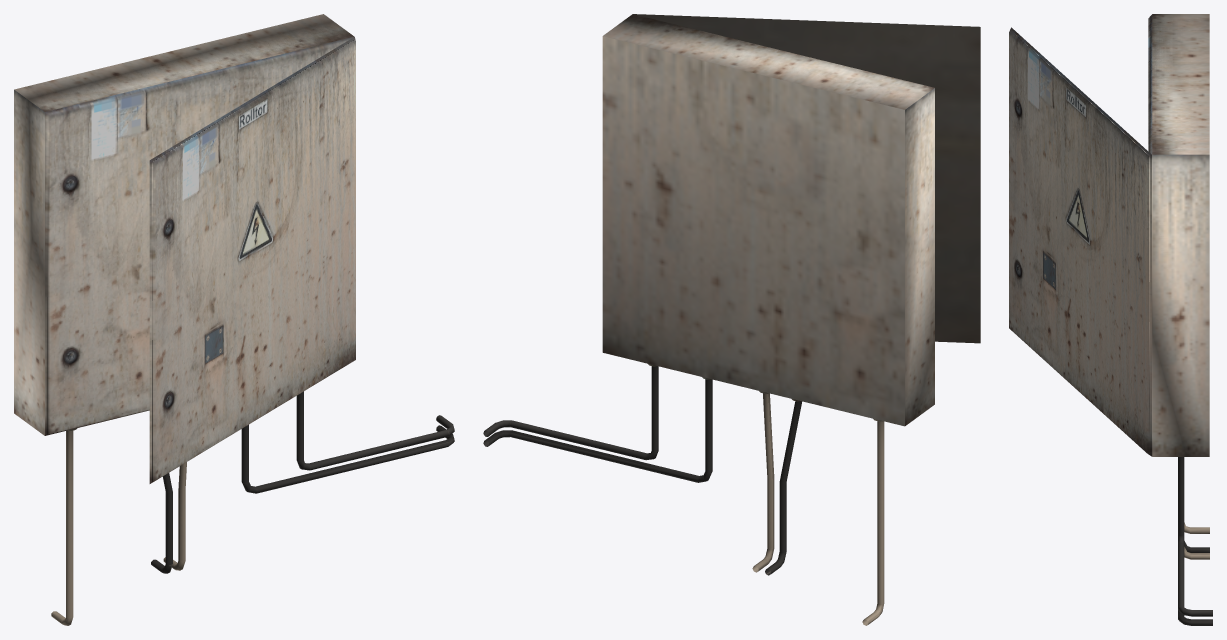
Rendered from fuse_box_0003.fbx.
3 views of the same model, side by side, from view 1: azimuth 30°, elevation 25°; view 2: azimuth 150°, elevation 25°; view 3: azimuth 270°, elevation 25° (orthographic). The views are drawn at different scales.
Parts seen in each view (by area): view 1: fuse_box_0003a, fuse_box_0003b, wires_03, wires_02, wires_01; view 2: fuse_box_0003a, fuse_box_0003b, wires_03, wires_02, wires_01; view 3: fuse_box_0003a, fuse_box_0003b, wires_03, wires_02.
Boxes of the visible parts, <box> form: fuse_box_0003a: <box>14,14,355,483</box>; fuse_box_0003b: <box>14,14,354,435</box>; wires_03: <box>241,391,454,493</box>; wires_02: <box>151,462,186,573</box>; wires_01: <box>51,430,73,625</box>; fuse_box_0003a: <box>602,14,980,426</box>; fuse_box_0003b: <box>604,15,934,425</box>; wires_03: <box>483,366,712,482</box>; wires_02: <box>752,393,802,575</box>; wires_01: <box>862,421,884,625</box>; fuse_box_0003a: <box>1009,14,1209,456</box>; fuse_box_0003b: <box>1148,14,1209,456</box>; wires_03: <box>1178,457,1212,625</box>; wires_02: <box>1184,541,1209,559</box>.
Bounding box in the file's own units: 111 × 133 × 48.96.
